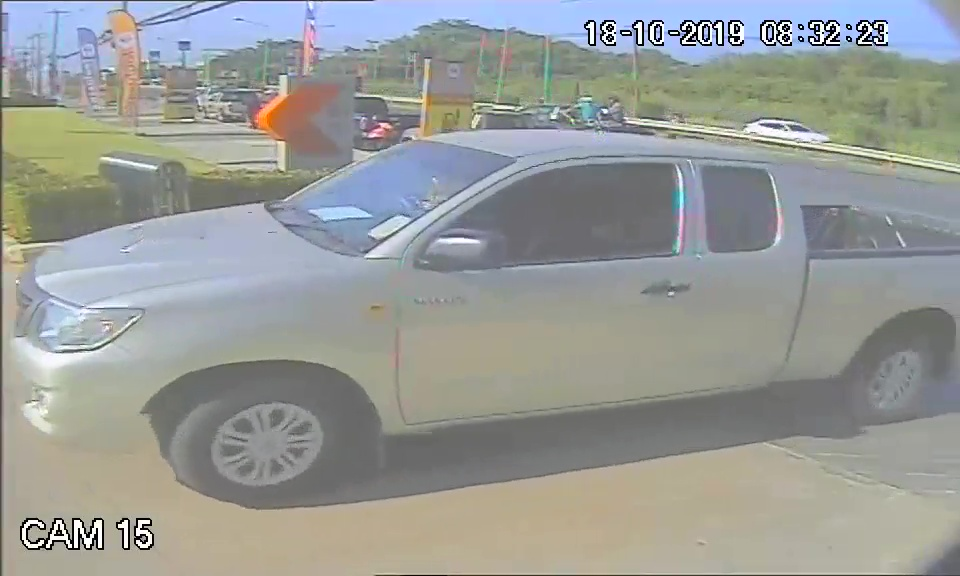pickup: (14, 129, 951, 500)
